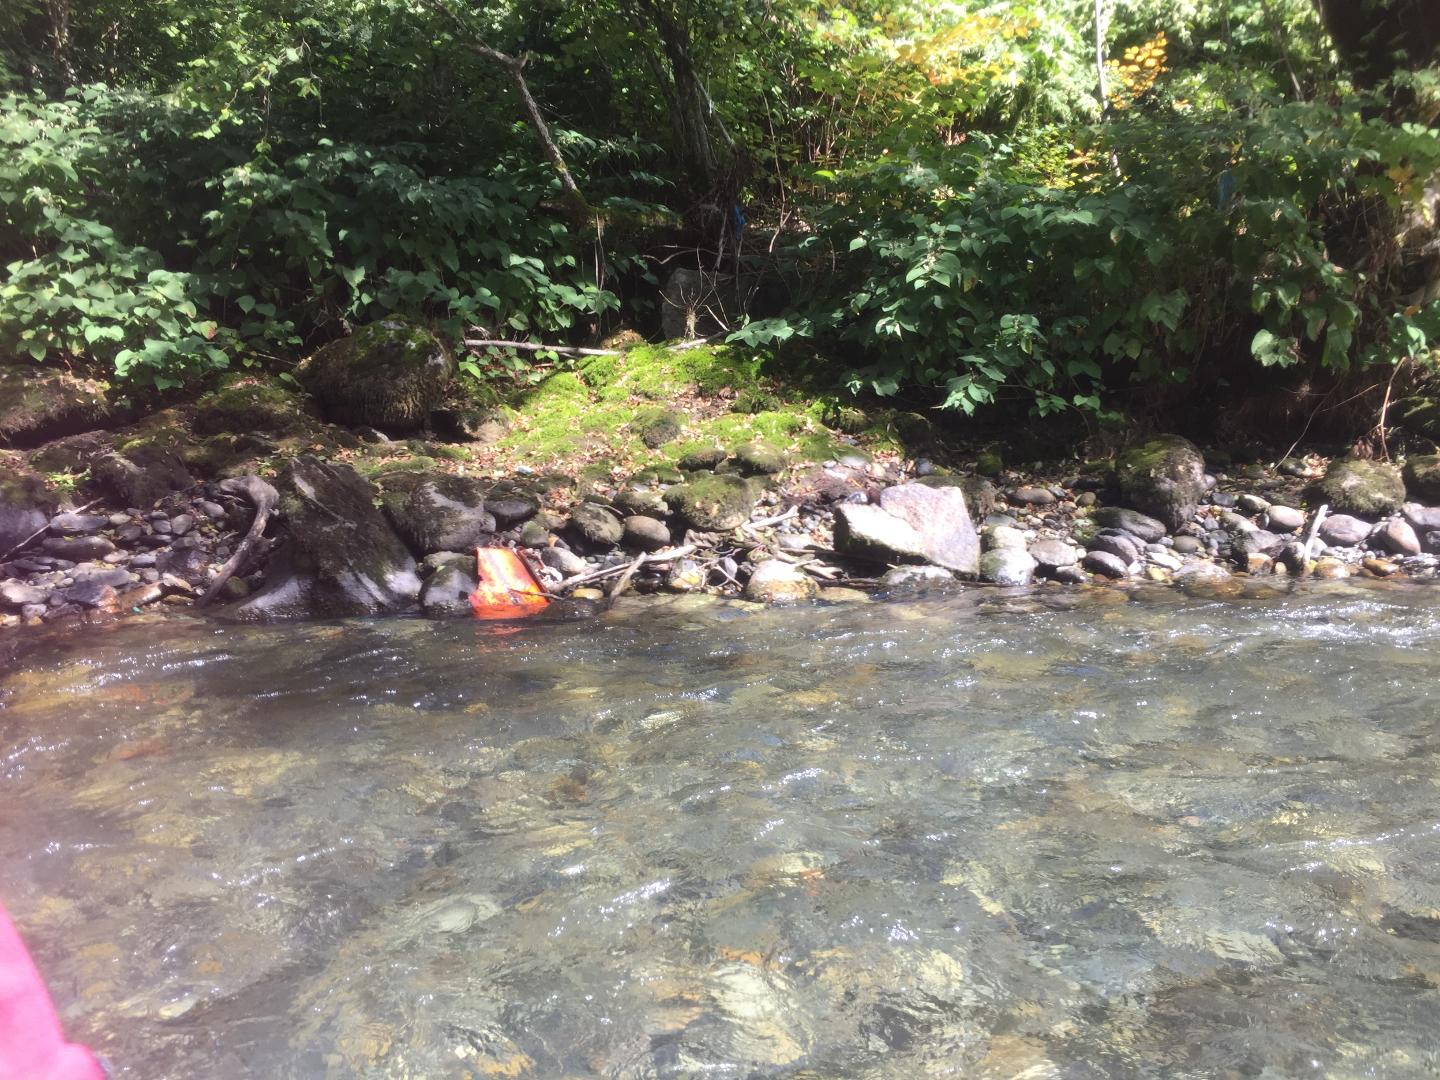Unclear: (469, 543, 554, 630)
